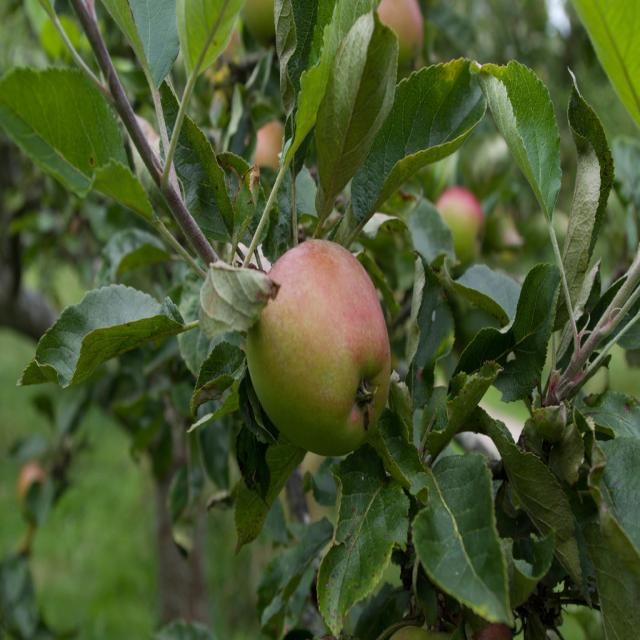Healty Apple: (246, 244, 384, 452), (433, 186, 487, 275), (377, 0, 423, 66), (254, 121, 287, 172)
